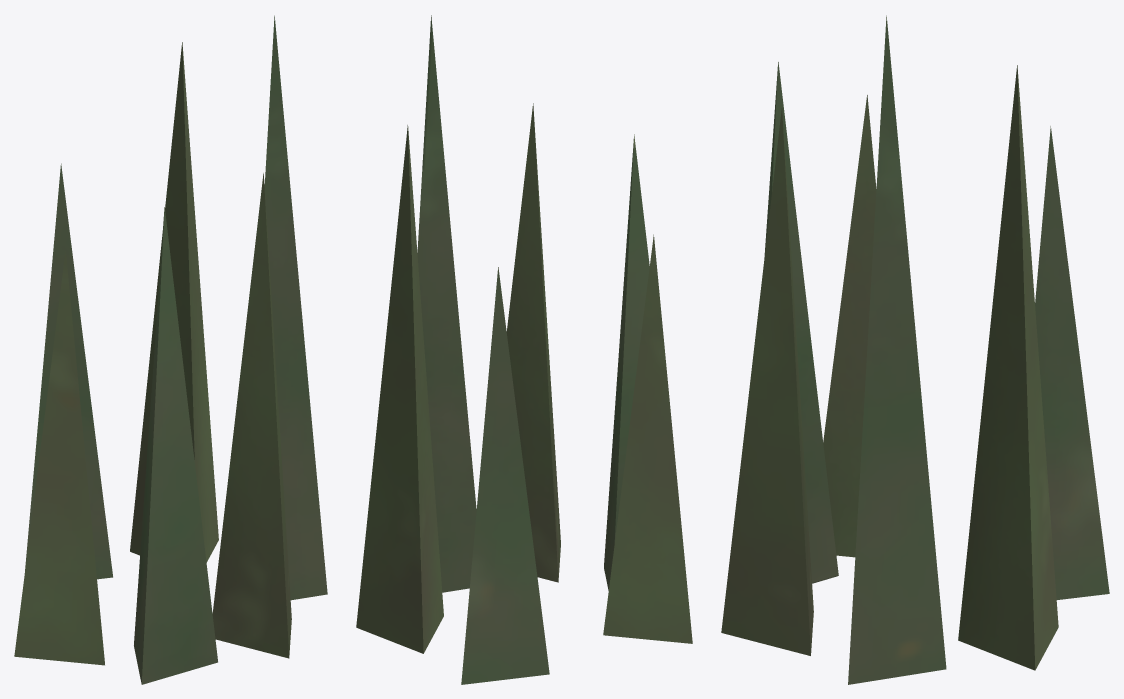
Rendered from grama_tufo.glb.
3 views of the same model, side by side, from view 1: azimuth 30°, elevation 25°; view 2: azimuth 150°, elevation 25°; view 3: azimuth 270°, elevation 25° (orthographic). The views are drawn at different scales.
Parts seen in each view (by area): view 1: grama_tufo; view 2: grama_tufo; view 3: grama_tufo.
Boxes of the visible parts, box(x1,y1,x2,y2) form: grama_tufo: box(14, 15, 327, 684); grama_tufo: box(356, 15, 692, 684); grama_tufo: box(721, 15, 1109, 684).
Size of the model in its own units: 0.1602 by 0.2955 by 0.1598.
Materials: 1 (1 with a texture image).
